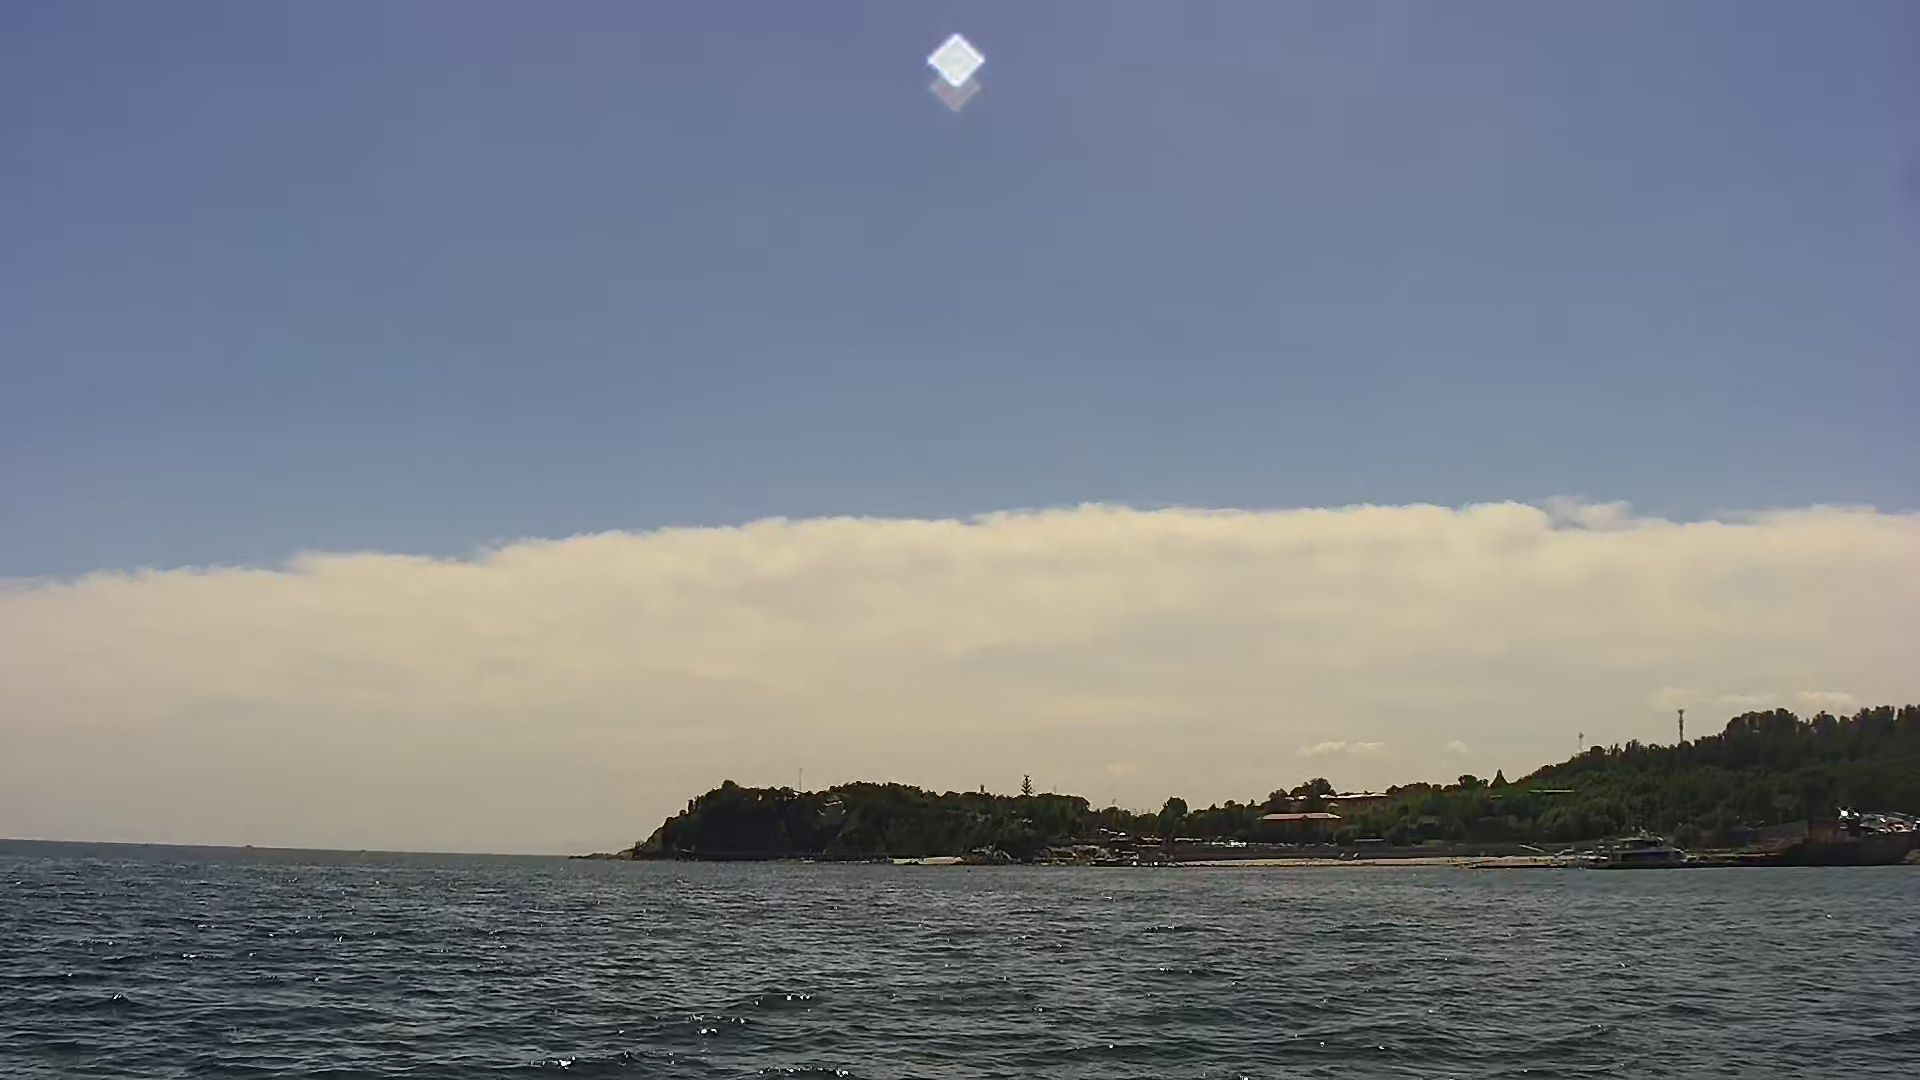boat: (1768, 796, 1920, 855), (1575, 831, 1709, 865)
